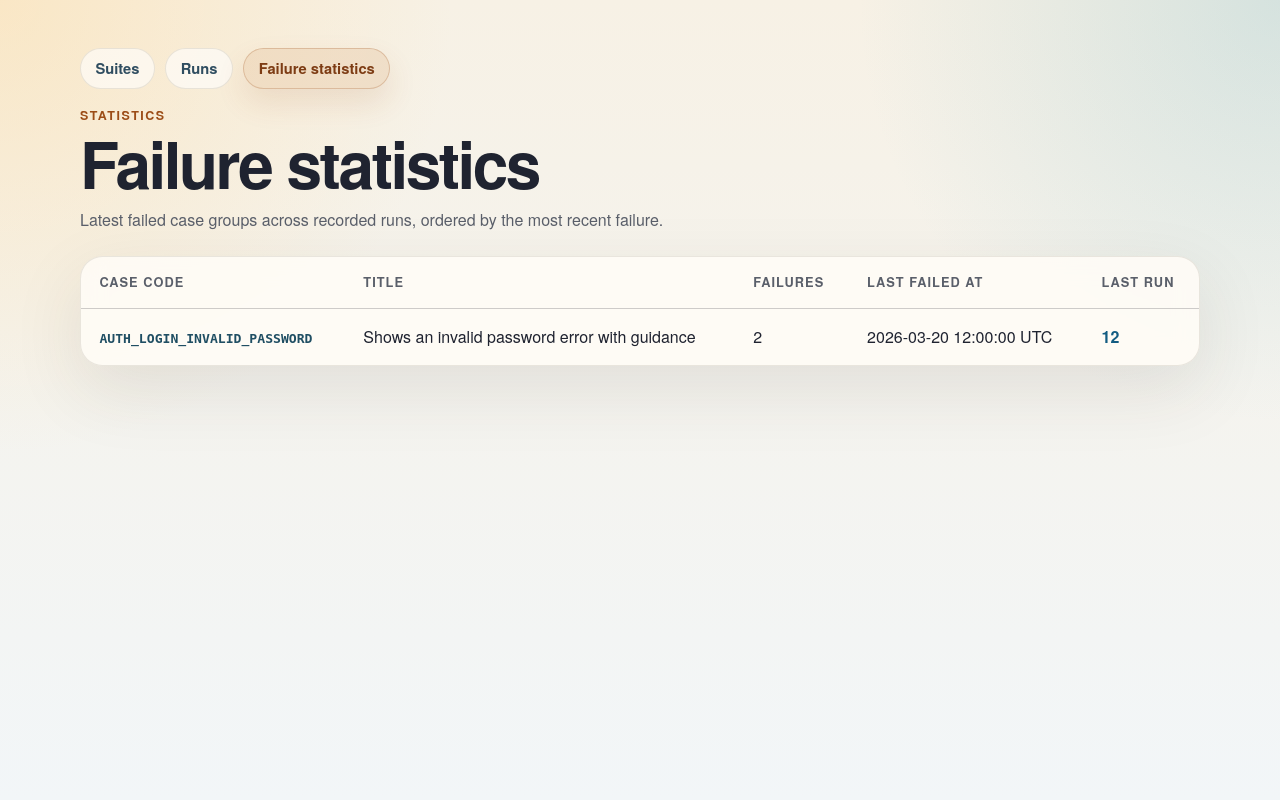
Test case: loads a real run detail page when a run link is clicked
Click the link "12": point(1110, 337) [1102, 325, 1119, 348]
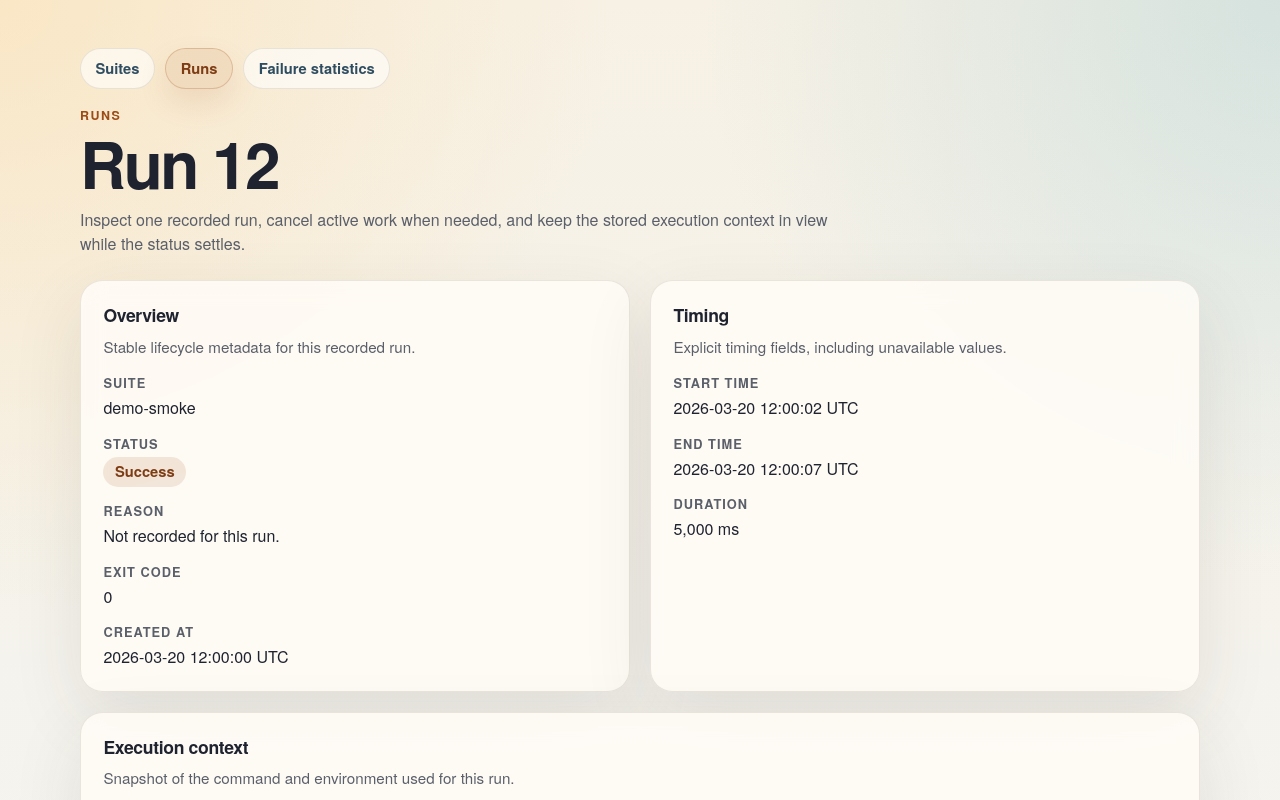
expect the heading "Run 12" is shown: met, box [80, 117, 278, 209]
expect the heading "Overview" is shown: met, box [103, 302, 179, 327]
